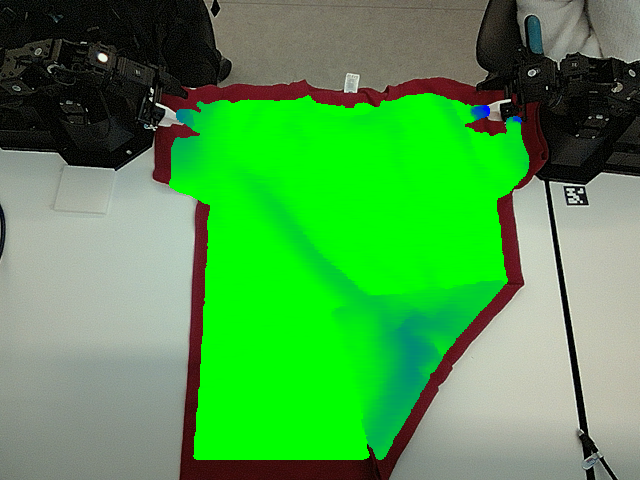V: (320, 291, 369, 329)
